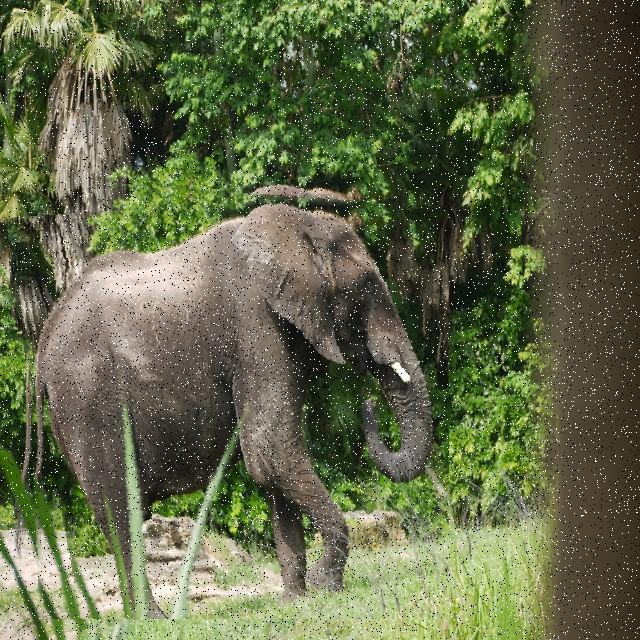elephant: (20, 176, 449, 619)
